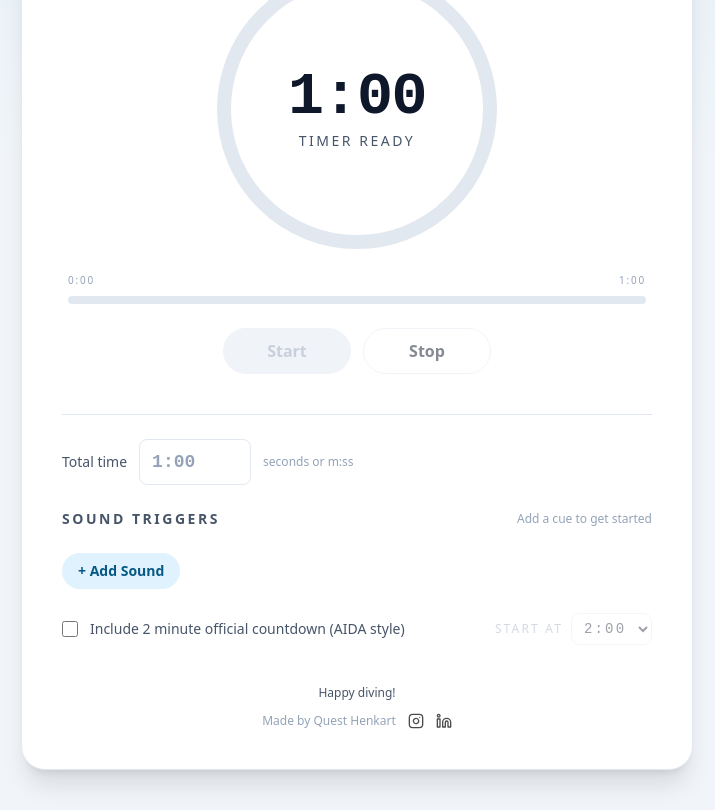
it: TimerSoundApp › increments timer after starting
(page scrolled)
Click the button "+ Add Sound".
click(121, 571)  # box [62,553,180,589]
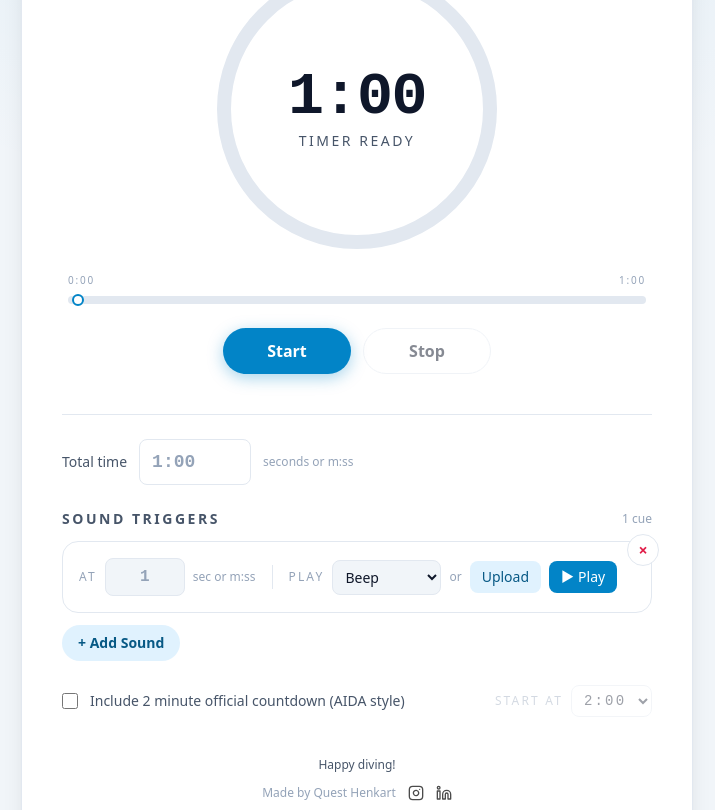
Select "Ding" in the 1st dropdown at x=387, y=577, box [332,560,441,594]
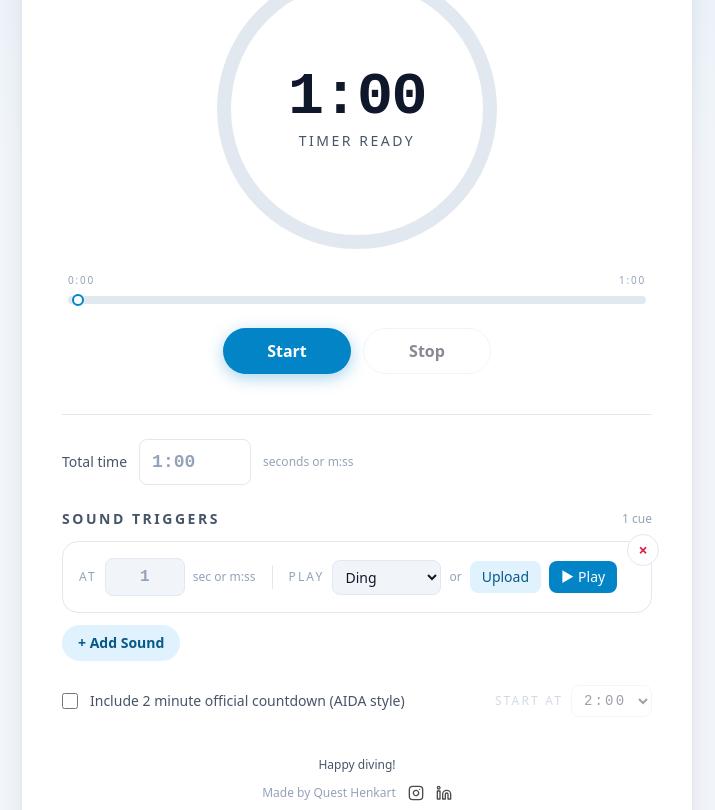
Click the button "Start".
click(287, 351)  # box [223,328,351,374]
Wait 1000 ms
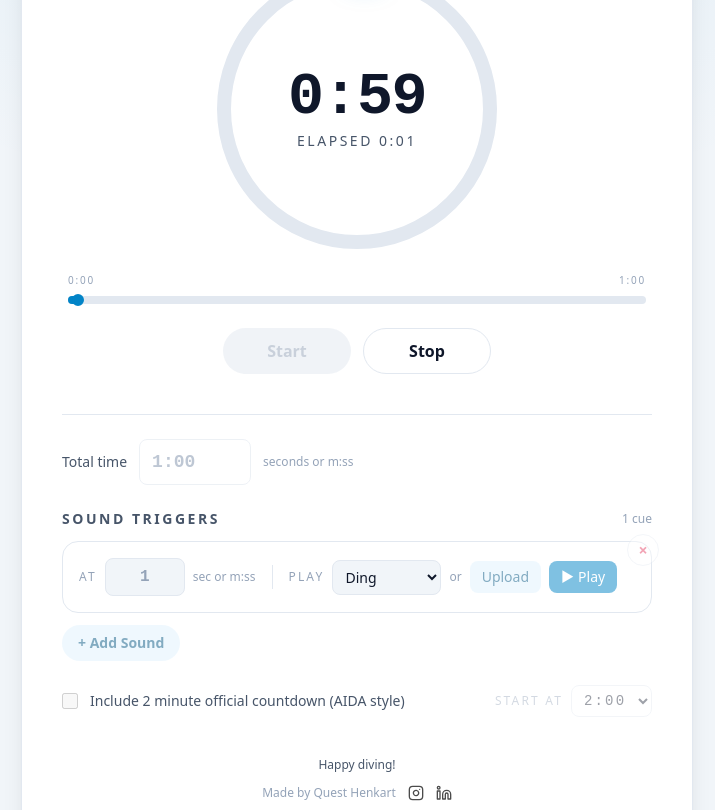
Now the text "Elapsed 0:01" is shown, box [297,131,417,151]
